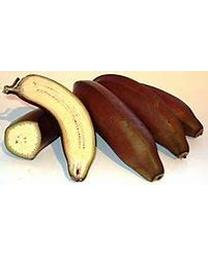banana: (1, 73, 204, 183)
